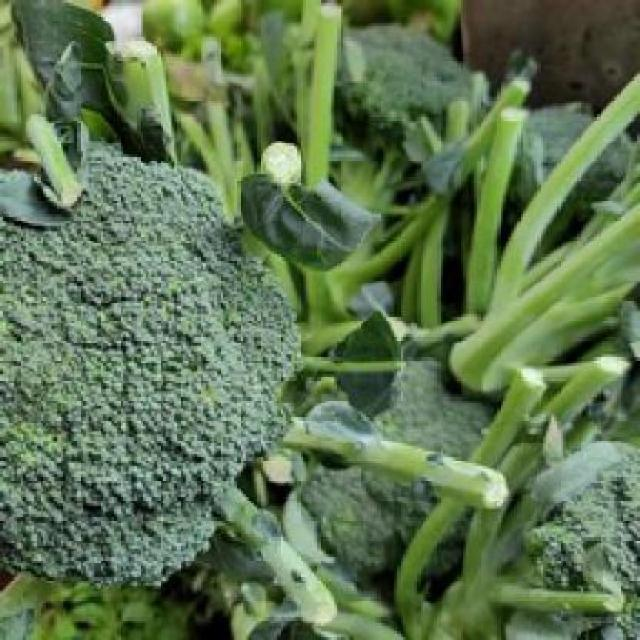broccoli: (5, 156, 304, 590), (306, 348, 532, 588), (300, 14, 497, 254), (512, 96, 628, 332)
